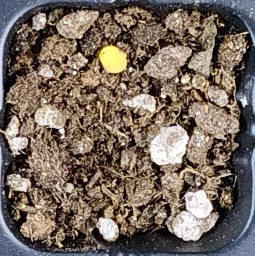chilli seed: (98, 45, 128, 74)
